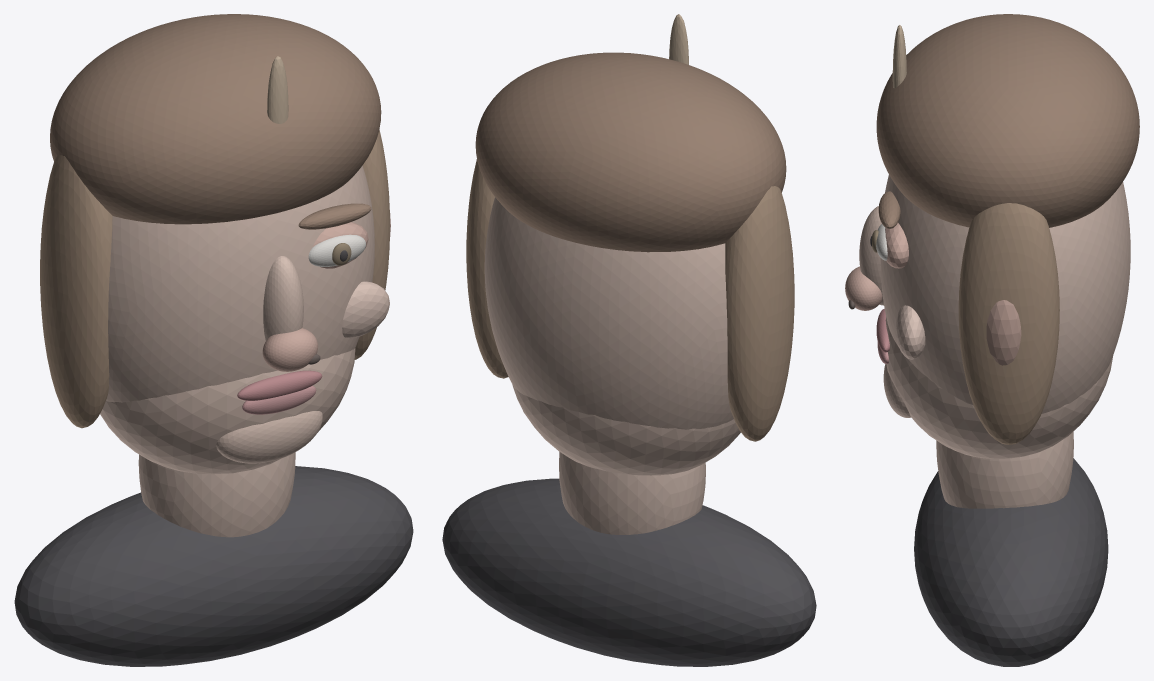
File: carey_mulligan_face.glb
The picture shows the model from 3 angles, left to right: view 1: azimuth 30°, elevation 25°; view 2: azimuth 150°, elevation 25°; view 3: azimuth 270°, elevation 25°; orthographic projection. The views are drawn at different scales.
Parts seen in each view (by area): view 1: hair_cap, shoulders, head, hair_left, jaw, neck, chin, hair_right, nose_bridge, cheek, nose_tip, upper_lip (+5 smaller); view 2: hair_cap, shoulders, head, hair_left, jaw, neck, hair_right, parting; view 3: hair_cap, shoulders, head, hair_right, jaw, neck, ear, cheek, nose_bridge, nose_tip, eye_socket, parting (+2 smaller).
Part boxes in pixels (x1,y1,x2,y2): hair_cap: (50, 14, 381, 224); shoulders: (14, 466, 413, 666); head: (106, 165, 374, 402); hair_left: (40, 155, 112, 428); jaw: (100, 348, 355, 474); neck: (138, 452, 295, 537); chin: (216, 411, 322, 463); hair_right: (354, 129, 389, 359); nose_bridge: (263, 256, 303, 341); cheek: (342, 281, 389, 338); nose_tip: (262, 328, 318, 371); upper_lip: (237, 370, 322, 400); hair_cap: (475, 52, 786, 252); shoulders: (442, 478, 816, 666); head: (484, 197, 733, 429); hair_left: (725, 186, 794, 441); jaw: (512, 384, 740, 475); neck: (559, 452, 705, 534); hair_right: (466, 159, 508, 378); parting: (669, 14, 688, 64); hair_cap: (876, 14, 1139, 227); shoulders: (914, 458, 1108, 666); head: (880, 175, 1130, 413); hair_right: (958, 203, 1059, 444); jaw: (885, 317, 1113, 458); neck: (936, 431, 1073, 508); ear: (986, 300, 1021, 365); cheek: (895, 305, 925, 359); nose_bridge: (859, 206, 883, 305); nose_tip: (845, 266, 882, 310); eye_socket: (885, 223, 908, 268); parting: (892, 25, 906, 88).
Size of the model in its own units: 2.1 by 3.29 by 1.46.
